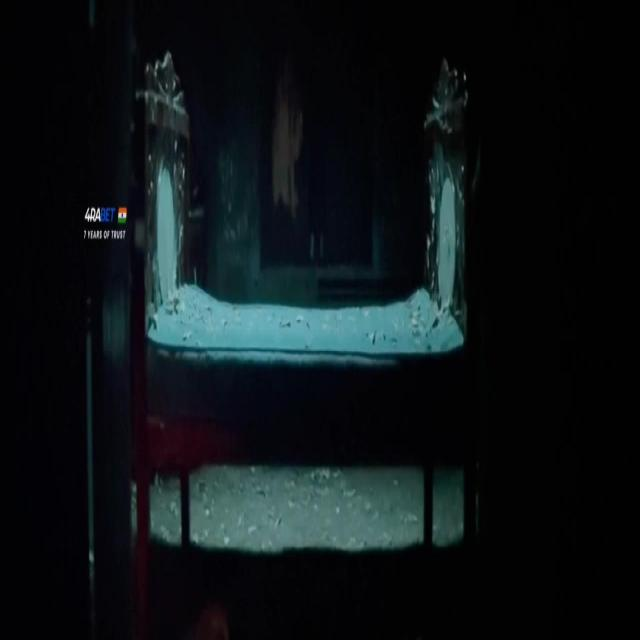4rabet: (79, 182, 133, 252)
